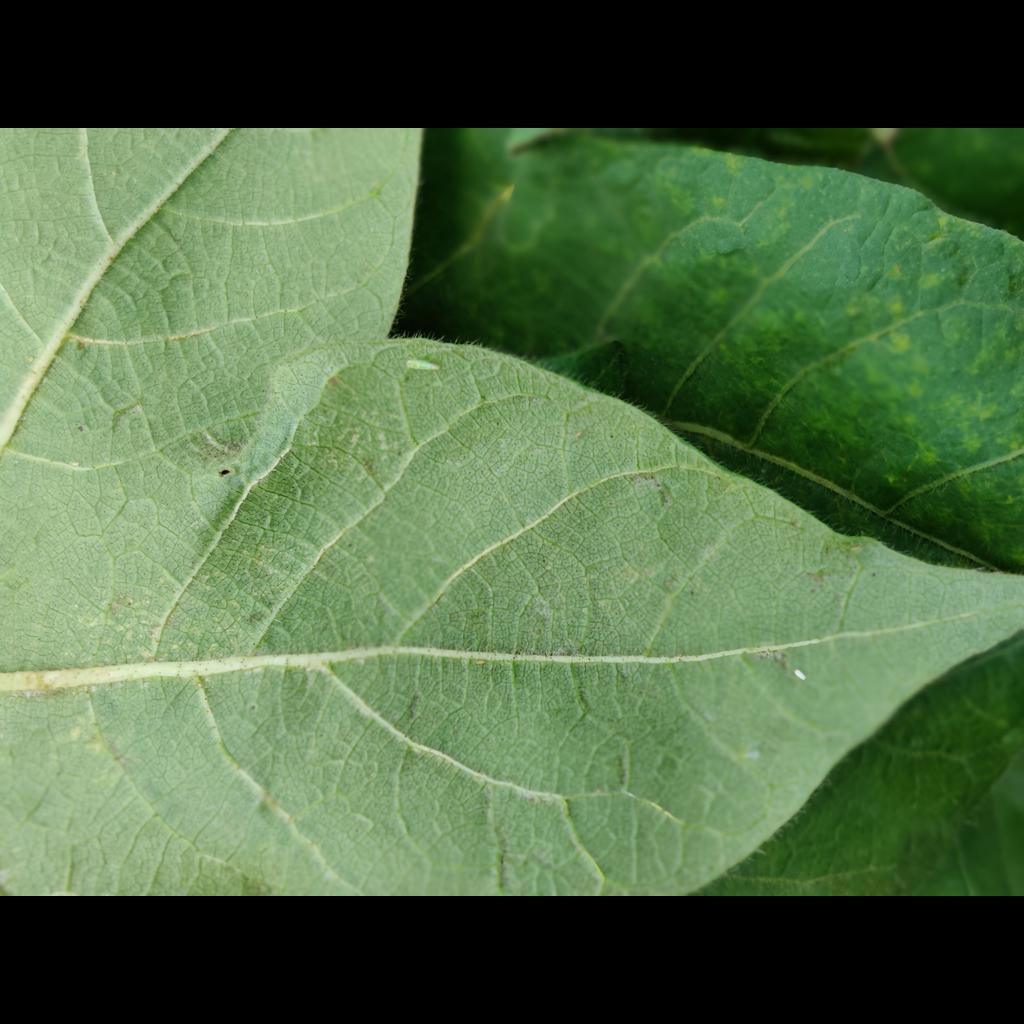nymph: (794, 669, 806, 681), (476, 660, 486, 665), (71, 461, 79, 467)
